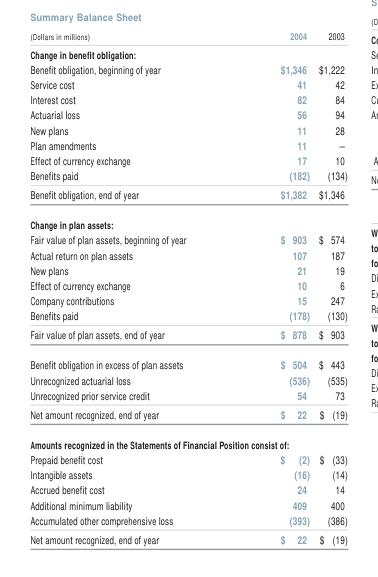table: (29, 28, 346, 546)
table column: (29, 28, 232, 546), (232, 28, 313, 546), (313, 28, 346, 546)
table column header: (29, 28, 346, 44)
table projected row header: (29, 209, 346, 231), (29, 429, 346, 451), (29, 44, 346, 61)
table row: (29, 184, 346, 209), (29, 324, 346, 349), (29, 404, 346, 429), (29, 209, 346, 231), (29, 349, 346, 371), (29, 429, 346, 451), (29, 44, 346, 61), (29, 167, 346, 184), (29, 307, 346, 324), (29, 387, 346, 404), (29, 512, 346, 529), (29, 529, 346, 546), (29, 28, 346, 44), (29, 121, 346, 137), (29, 246, 346, 262), (29, 371, 346, 387), (29, 496, 346, 512), (29, 61, 346, 76), (29, 76, 346, 91), (29, 91, 346, 106), (29, 106, 346, 121), (29, 137, 346, 152), (29, 152, 346, 167), (29, 231, 346, 246), (29, 262, 346, 277), (29, 277, 346, 292), (29, 292, 346, 307), (29, 451, 346, 466), (29, 466, 346, 481), (29, 481, 346, 496)
